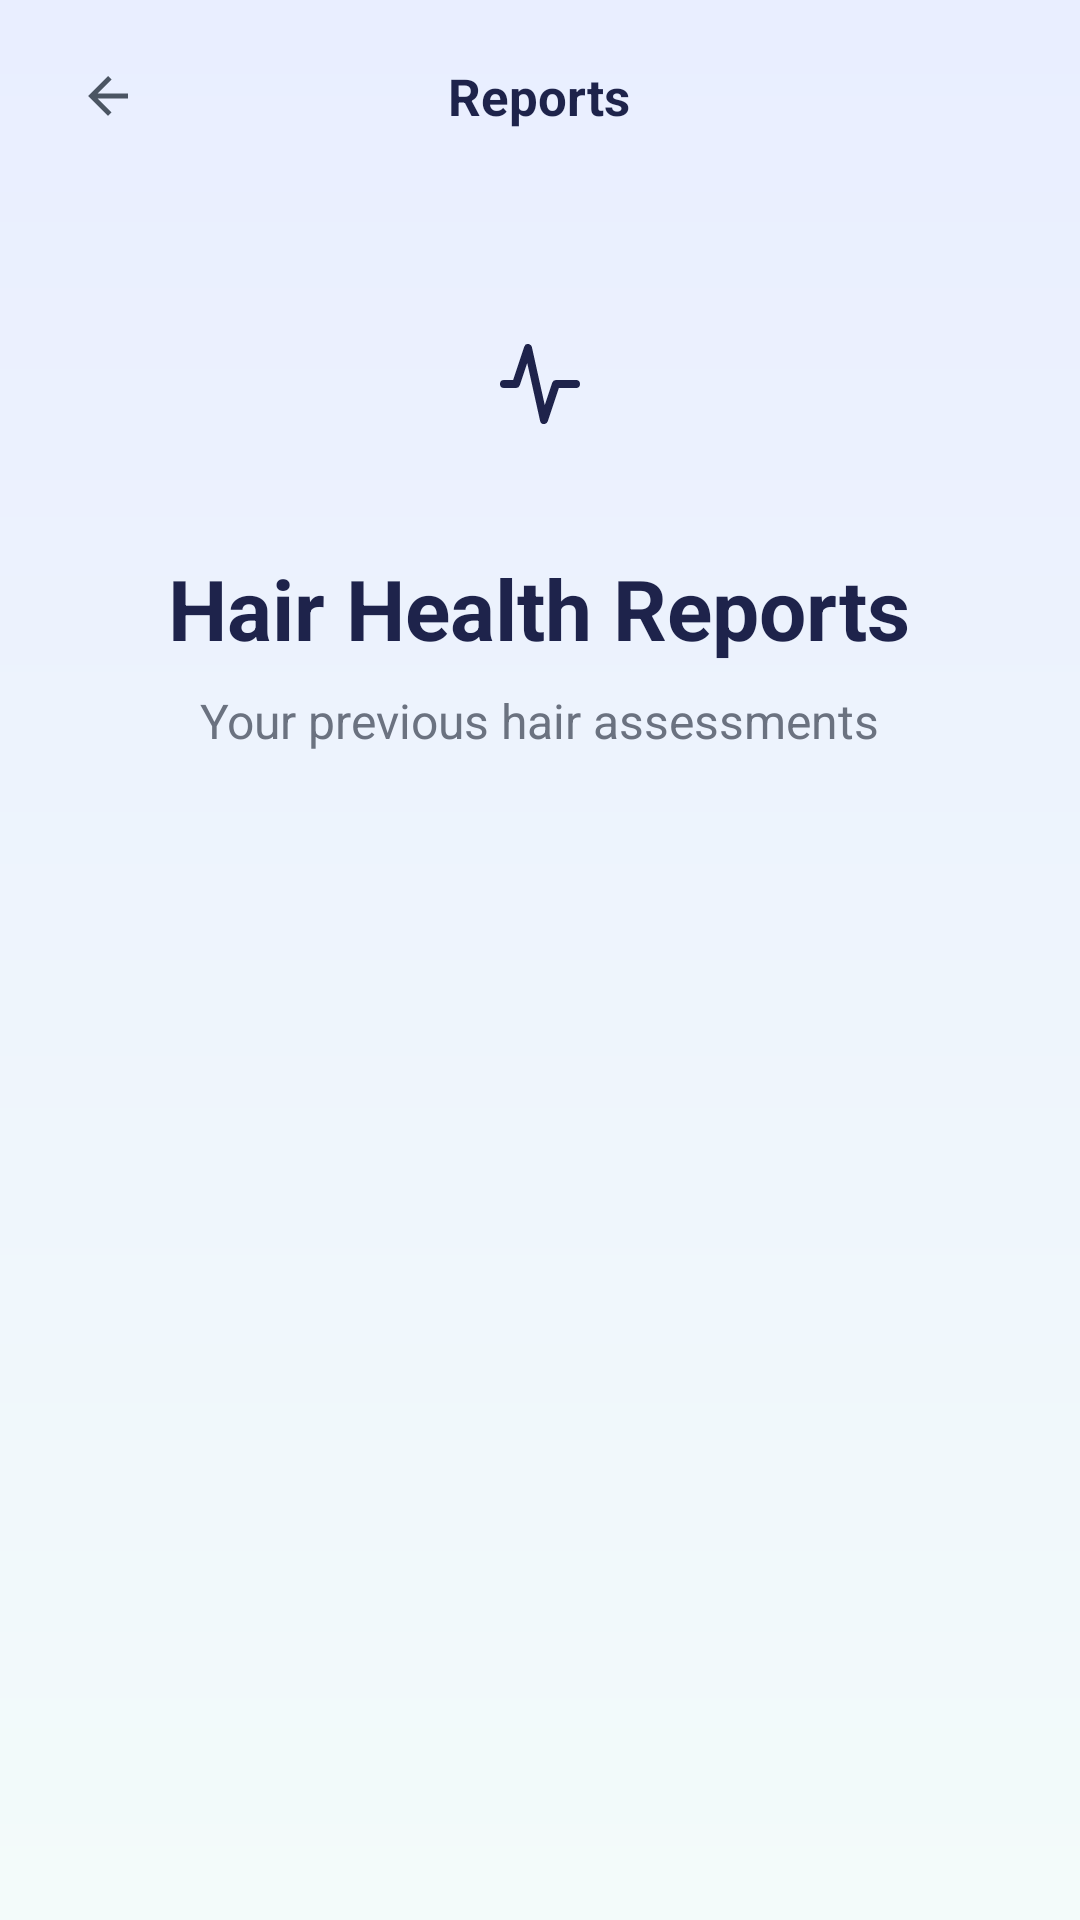

Named icons in this screenshot (1080w x 1920h) and their bounding boxes, (x1, y1, x2, y2):
Back: (88, 76, 128, 116)
heartbeat: (500, 344, 580, 424)
